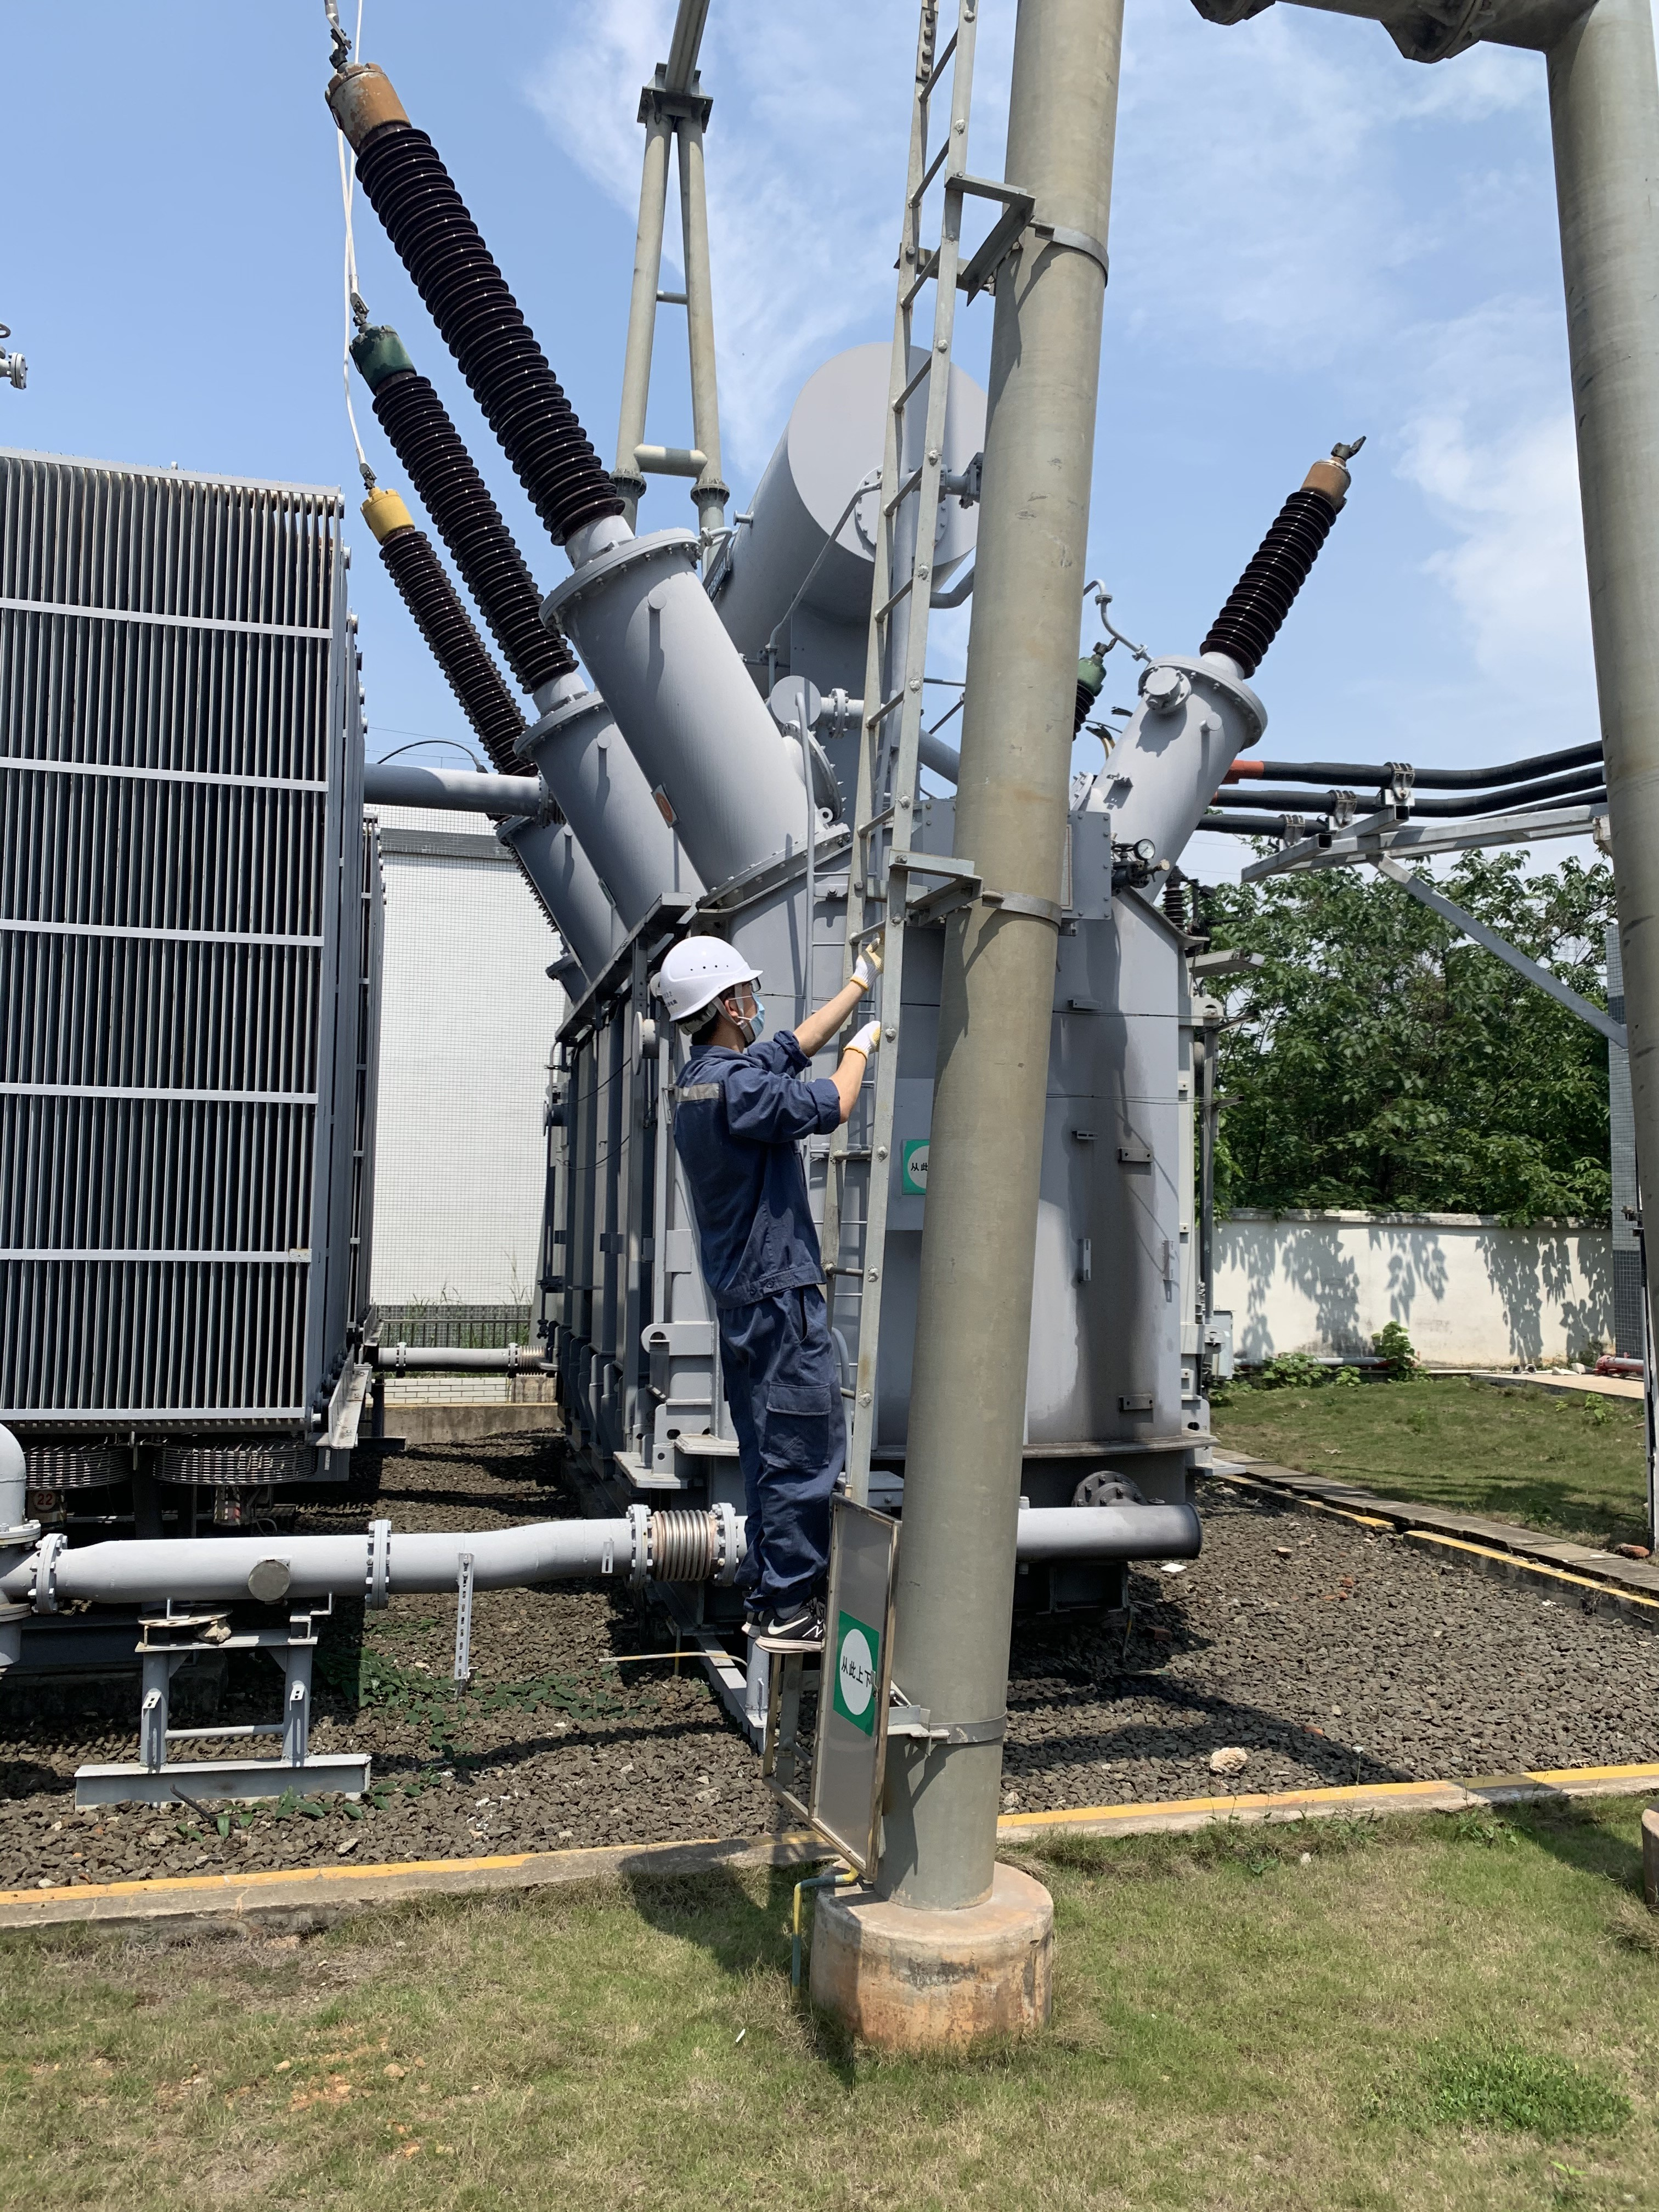downsuit: (704, 1312, 863, 1592)
upsuit: (662, 1026, 857, 1298)
wrongtop: (765, 979, 859, 1066), (805, 1055, 868, 1130)
